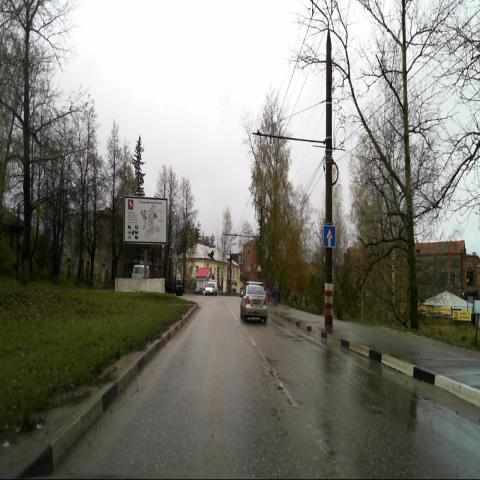5_6: (322, 224, 336, 247)
